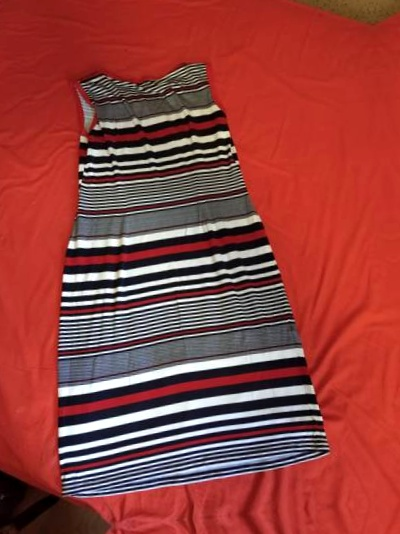Dress: (0, 25, 338, 511), (36, 528, 383, 534)
